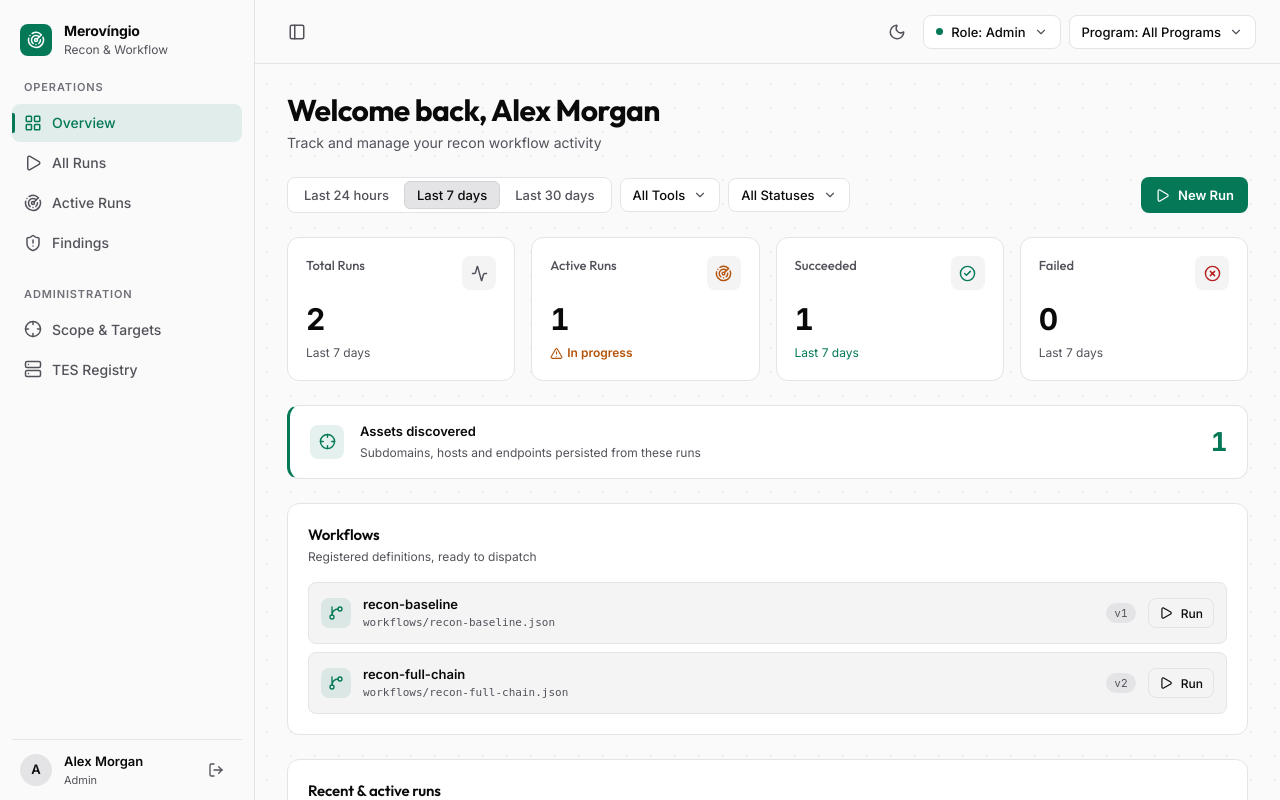
it: runs screens › loads the raw tool output on demand
Check: the navigation bar named "main navigation" is shown, box 0,0 -> 255,799
Click the link "All Runs": click(65, 162) 24,154 -> 106,172
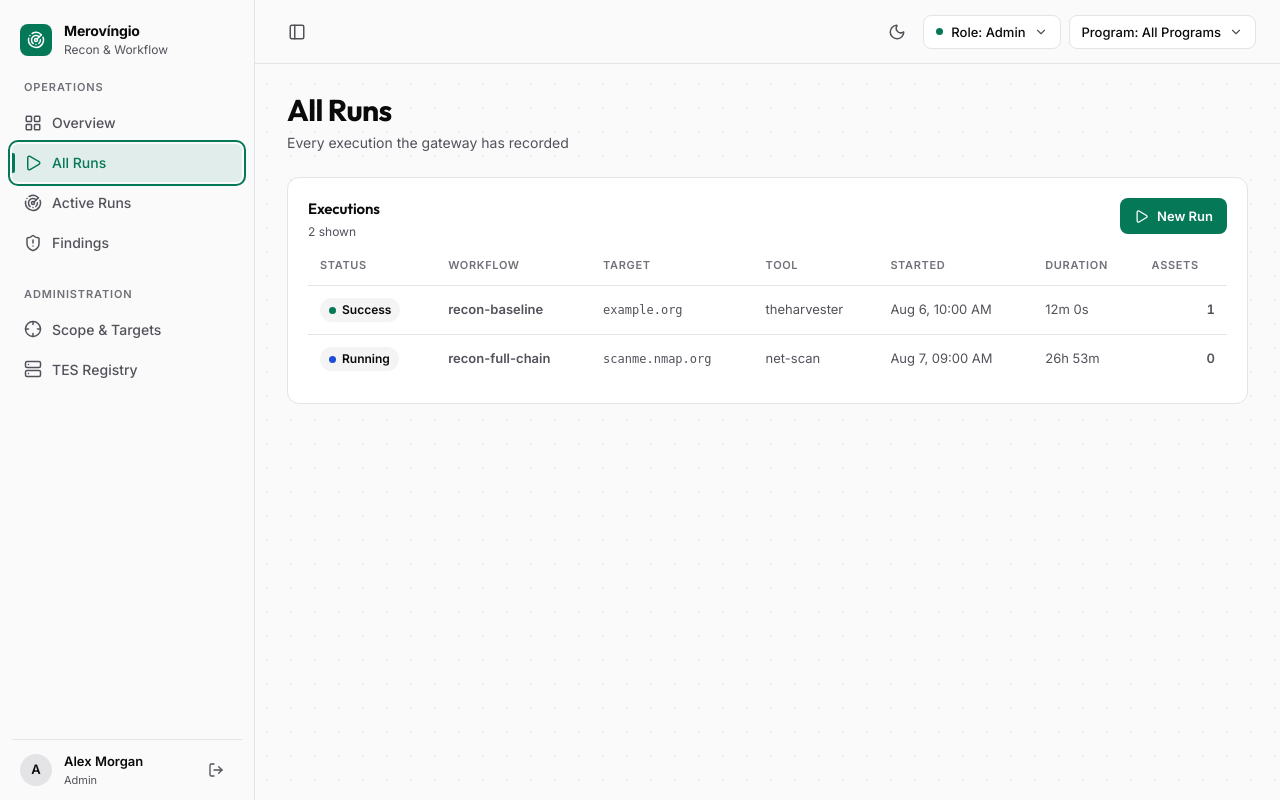
Click the button with aria-label "open run": click(768, 310) 308,286 -> 1227,334
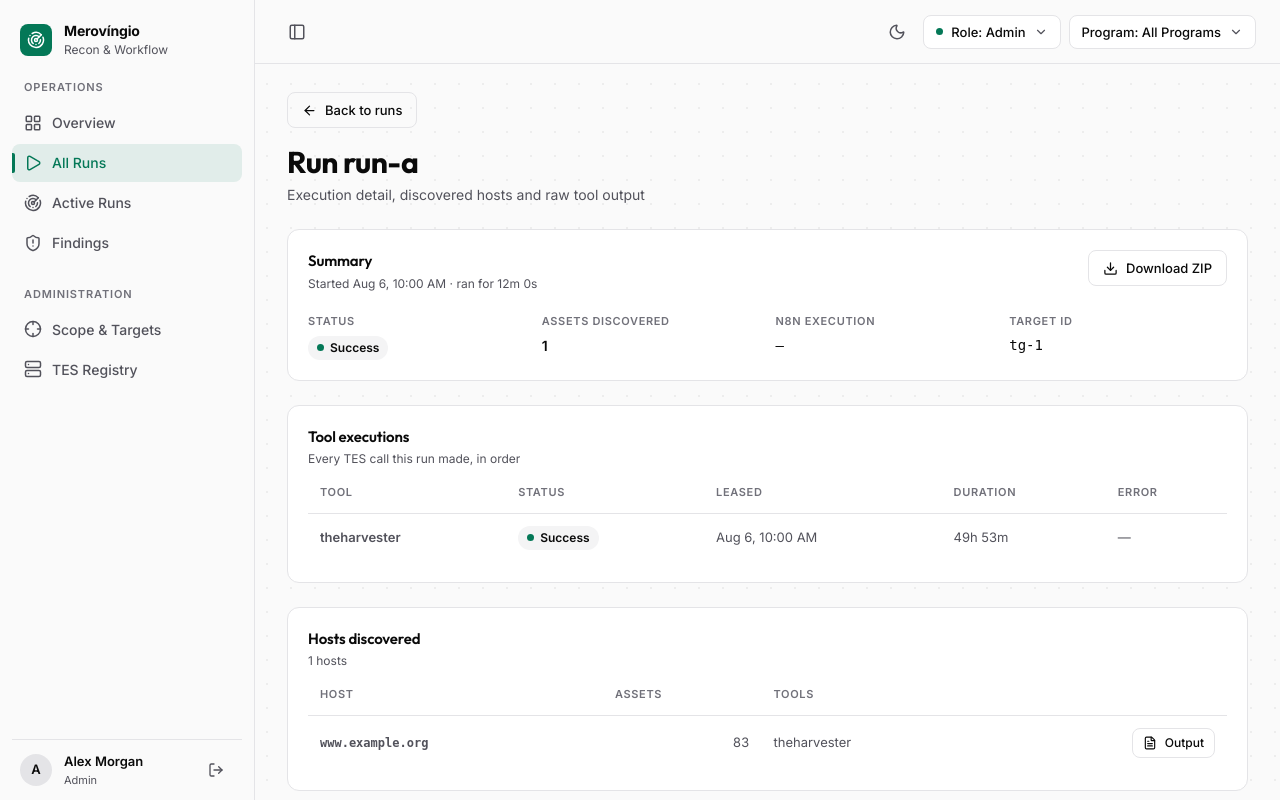
Click the button "Output": click(1173, 742) 1132,728 -> 1215,758
(page scrolled)
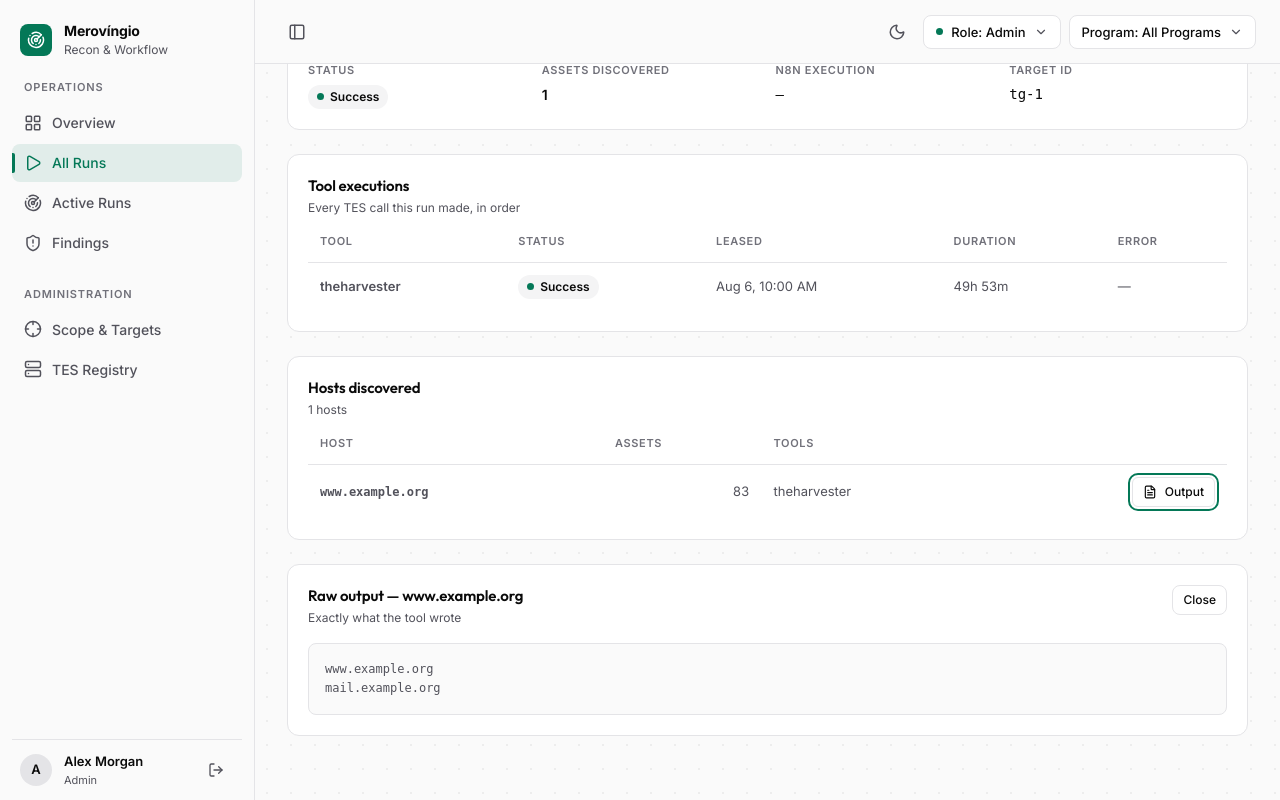
Check: the text "www.example.org mail.example.org" is shown, box 308,643 -> 1227,715
